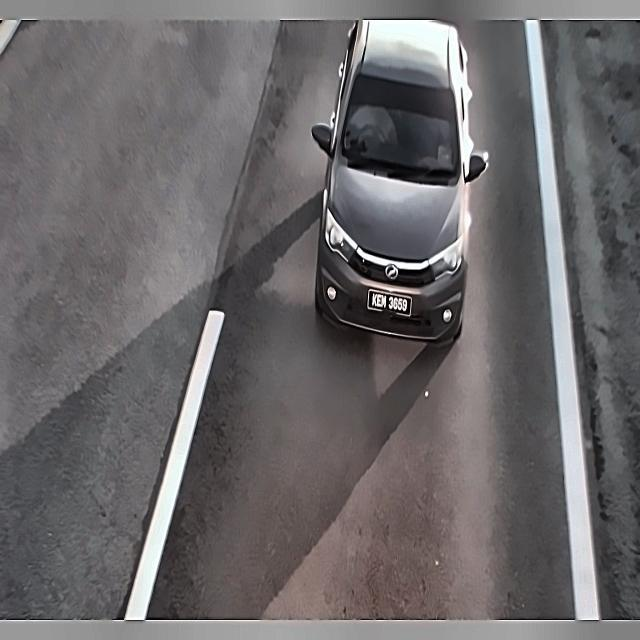car: (363, 277, 414, 325)
